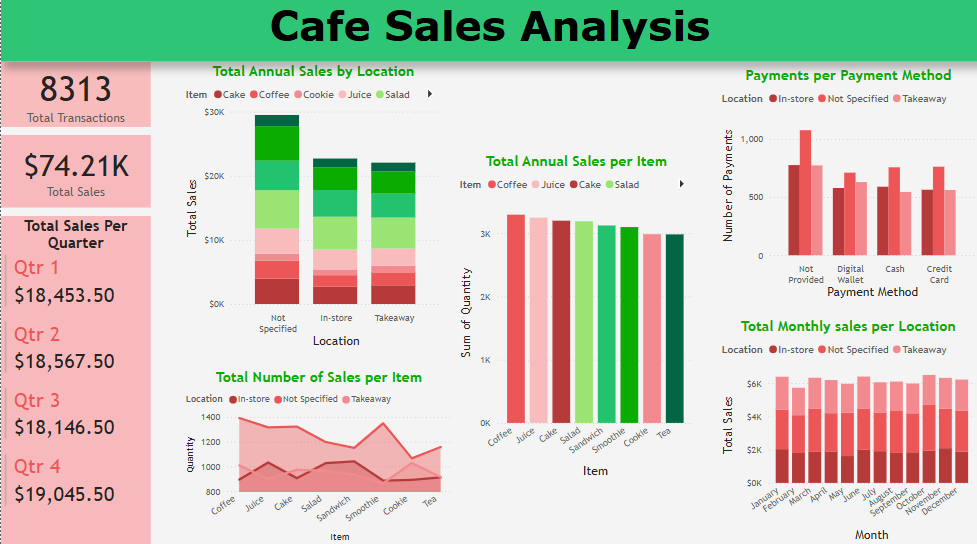

Layout of this report page (visuals, bound fields, positions):
{"tool":"powerbi","page":{"name":"Page 1","canvas":[1280,720],"ordinal":0},"visuals":[{"type":"card","fields":{"Values":["Count(dirty_cafe_sales.Transaction ID)"]},"box":[0,86.4,195.8,85],"z":0},{"type":"card","fields":{"Values":["Sum(dirty_cafe_sales.Total_Spent)"]},"box":[0,181.4,195.8,95],"z":1000},{"type":"columnChart","title":" Total Annual Sales by Location ","fields":{"Category":["dirty_cafe_sales.Location"],"Series":["dirty_cafe_sales.Item"],"Y":["Sum(dirty_cafe_sales.Total_Spent)"]},"box":[237.6,86.4,344.2,380.2],"z":2000},{"type":"clusteredColumnChart","title":"Payments per Payment Method","fields":{"Category":["dirty_cafe_sales.Payment Method"],"Series":["dirty_cafe_sales.Location"],"Y":["CountNonNull(dirty_cafe_sales.Payment Method)"]},"box":[938.9,92.2,341.3,311],"z":4000},{"type":"multiRowCard","title":"Total Sales Per Quarter","fields":{"Values":["Sum(dirty_cafe_sales.Total_Spent)","dirty_cafe_sales.Transaction Date.Variation.Date Hierarchy.Quarter"]},"box":[0,288,195.8,432],"z":5000},{"type":"columnChart","title":"Total Monthly sales per Location","fields":{"Category":["dirty_cafe_sales.Transaction Date.Variation.Date Hierarchy.Month"],"Y":["Sum(dirty_cafe_sales.Total_Spent)"],"Series":["dirty_cafe_sales.Location"]},"box":[938.9,420.5,341.3,299.5],"z":6000},{"type":"areaChart","title":"Total Number of Sales per Item ","fields":{"Category":["dirty_cafe_sales.Item"],"Y":["Sum(dirty_cafe_sales.Quantity)"],"Series":["dirty_cafe_sales.Location"]},"box":[237.6,486.7,358.6,233.3],"z":7000},{"type":"textbox","box":[0,0,1280.2,86.4],"z":8000},{"type":"columnChart","title":"Total Annual Sales per Item","fields":{"Category":["dirty_cafe_sales.Item"],"Y":["Sum(dirty_cafe_sales.Quantity)"],"Series":["dirty_cafe_sales.Item"]},"box":[596.2,204.5,315.4,432],"z":8001}]}

Visuals, with their boxes in screenshot pixels (x1, y1, x2, y2), scaled from the page's 1280x720 canvas onto the 977x544 screenshot:
card - Count(dirty_cafe_sales.Transaction ID): l=0, t=65, r=149, b=130
card - Sum(dirty_cafe_sales.Total_Spent): l=0, t=137, r=149, b=209
" Total Annual Sales by Location " columnChart: l=181, t=65, r=444, b=353
"Payments per Payment Method" clusteredColumnChart: l=717, t=70, r=976, b=305
"Total Sales Per Quarter" multiRowCard: l=0, t=218, r=149, b=543
"Total Monthly sales per Location" columnChart: l=717, t=318, r=976, b=543
"Total Number of Sales per Item " areaChart: l=181, t=368, r=455, b=543
textbox: l=0, t=0, r=976, b=65
"Total Annual Sales per Item" columnChart: l=455, t=155, r=696, b=481
